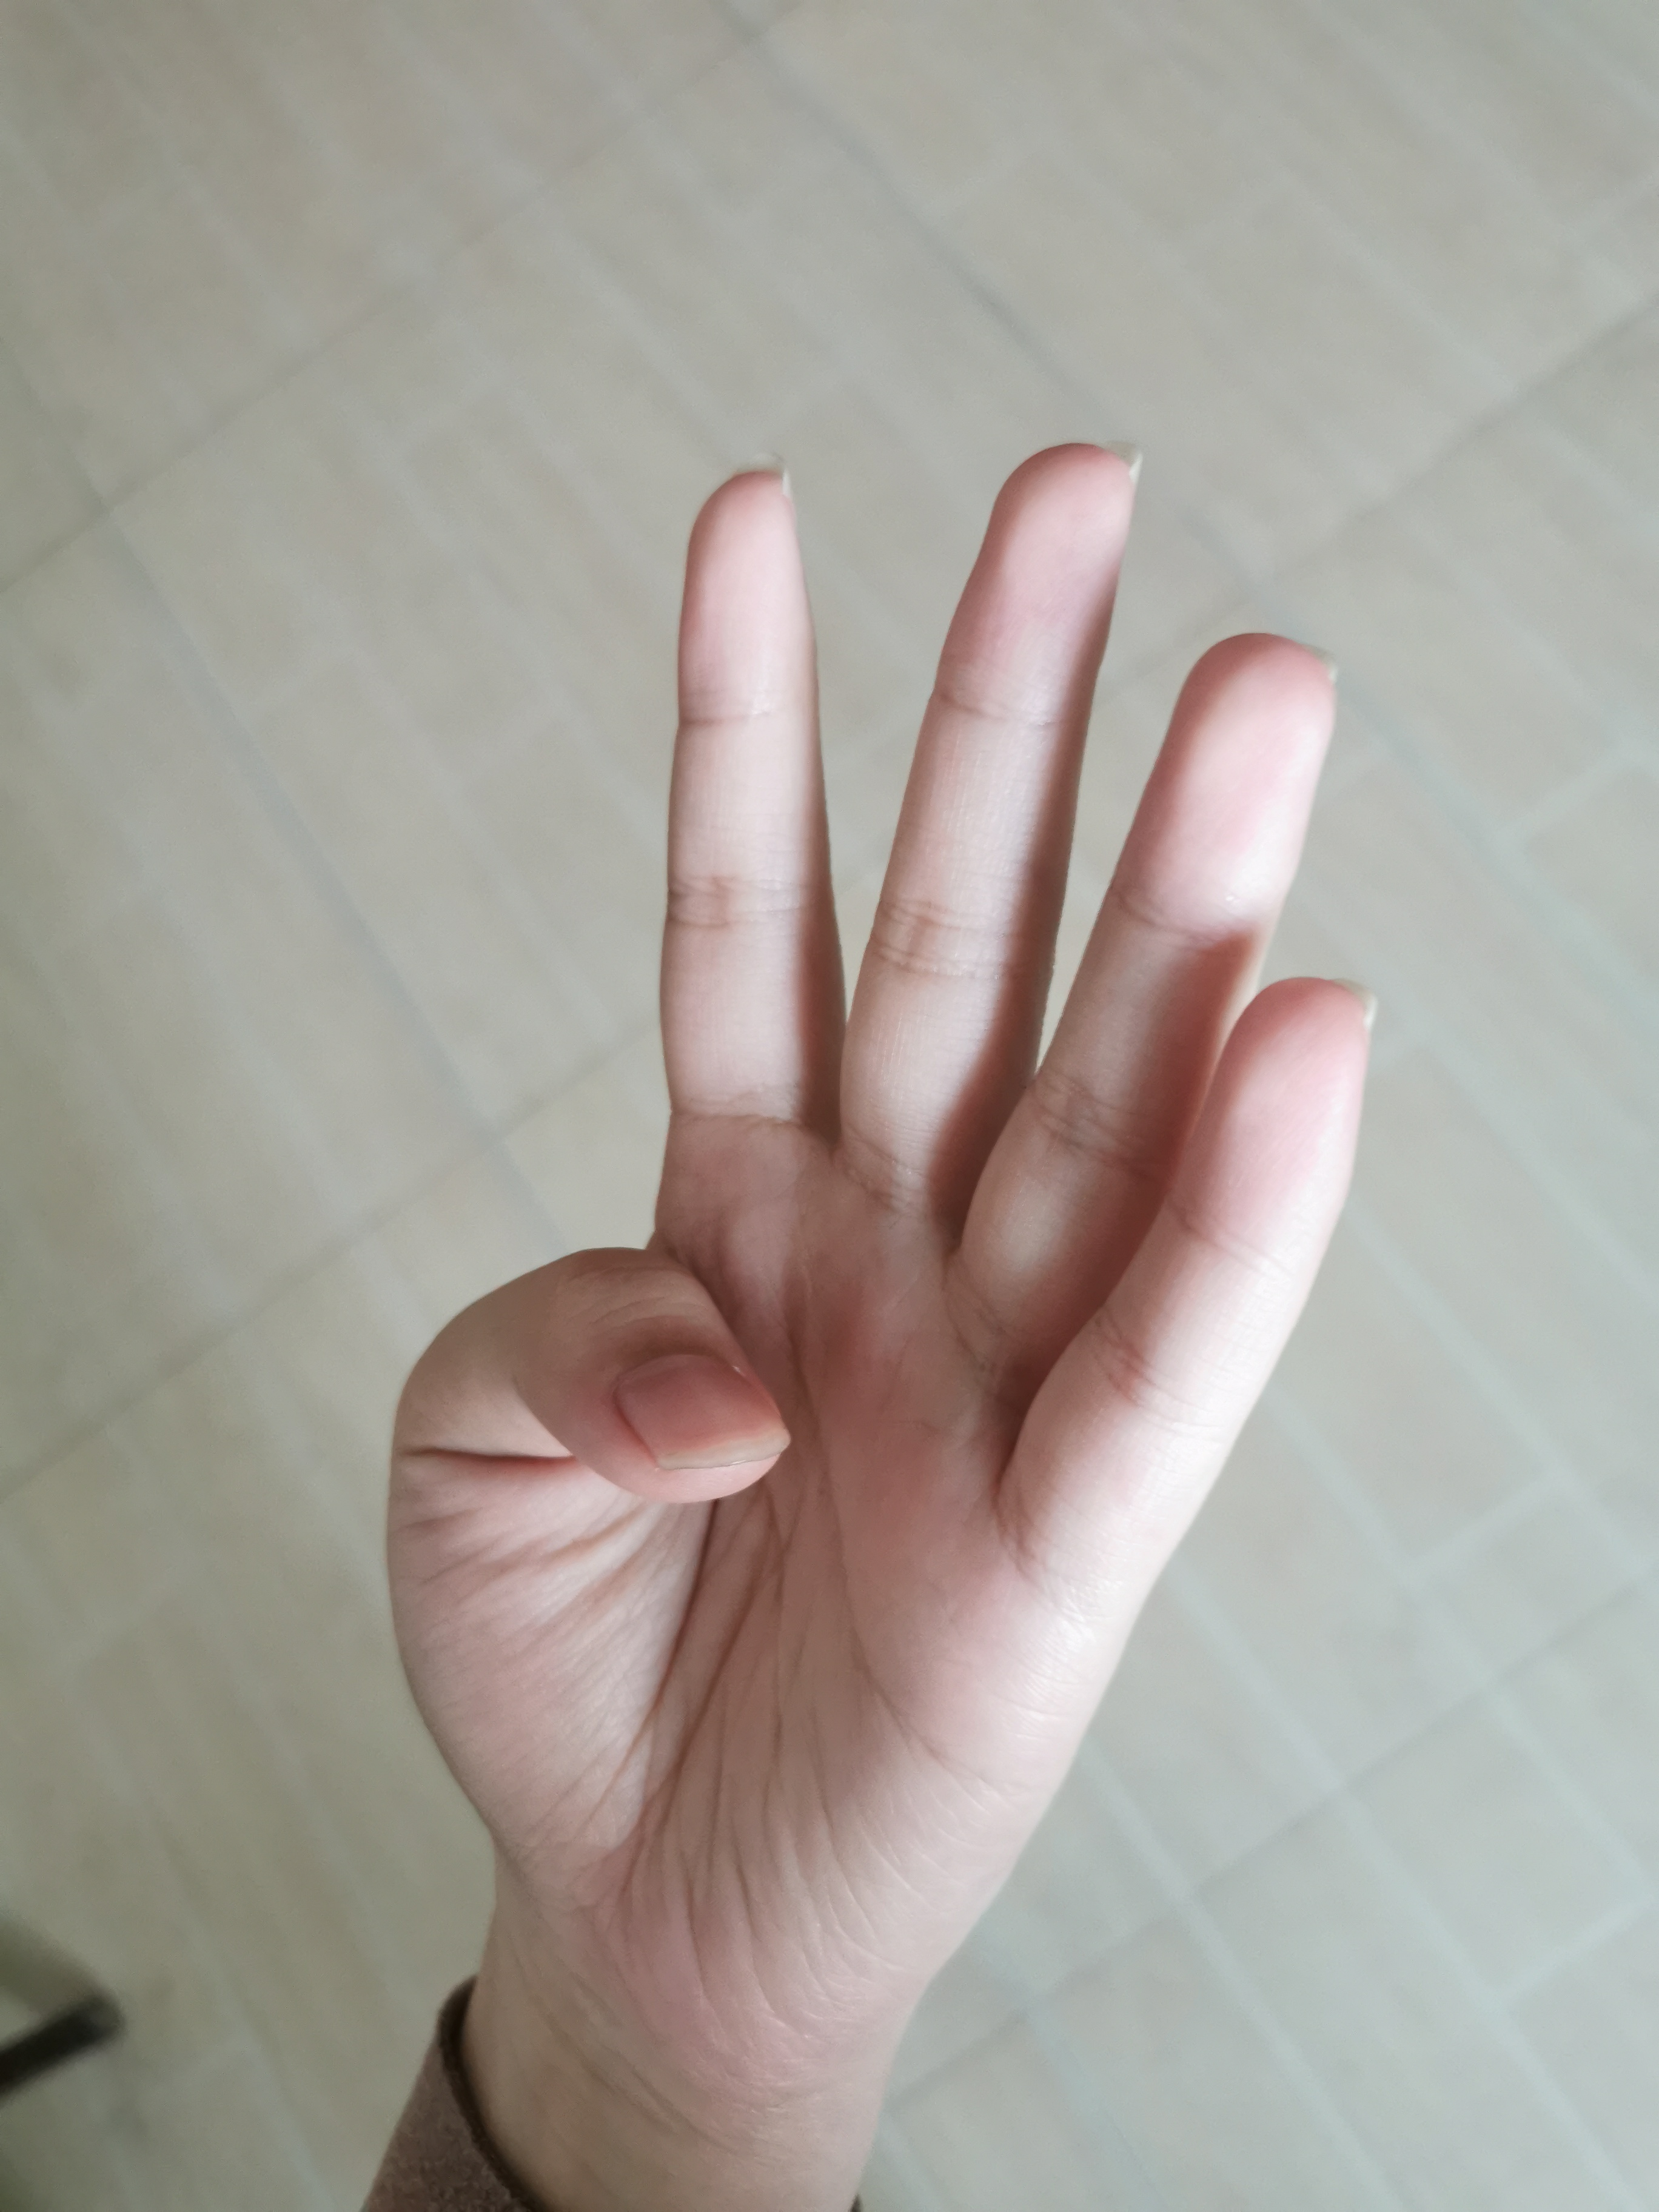right: (375, 432, 1401, 1996)
